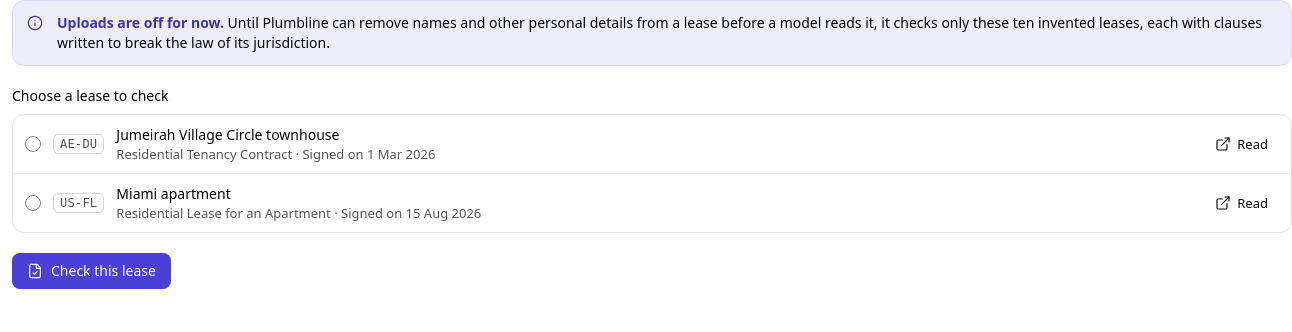
Scenario: SamplePicker › asks for a lease when none is chosen, and puts the focus on the list
The image size is (1292, 332).
What coordinates should you click on to do the following:
click the button "Check this lease"
I would click on:
 (91, 271)
Its box is [12,253,171,289].
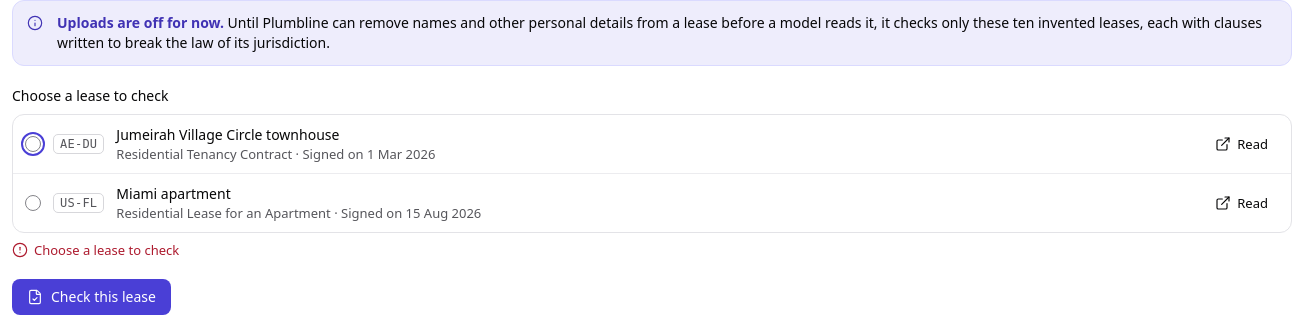
Expected: the text "Choose a lease to check" is shown, [12,241,179,259]
